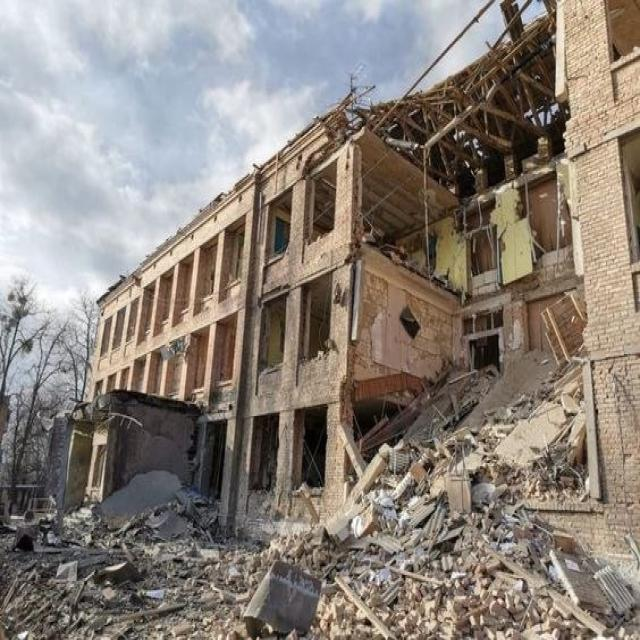broken_window: (305, 158, 337, 244), (262, 188, 292, 266)
building: (61, 0, 639, 566)
